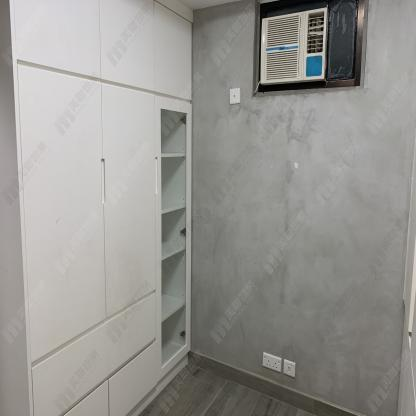AC: (260, 7, 328, 85)
Closet: (0, 0, 196, 416)
